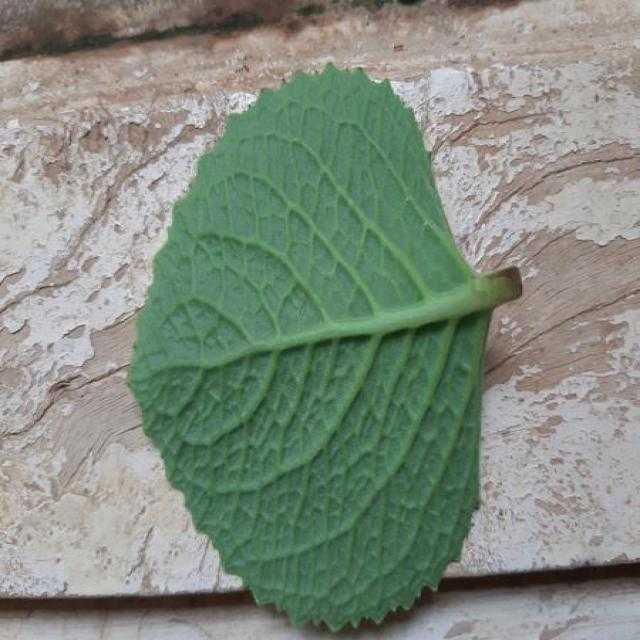doddpathre: (130, 65, 522, 630)
